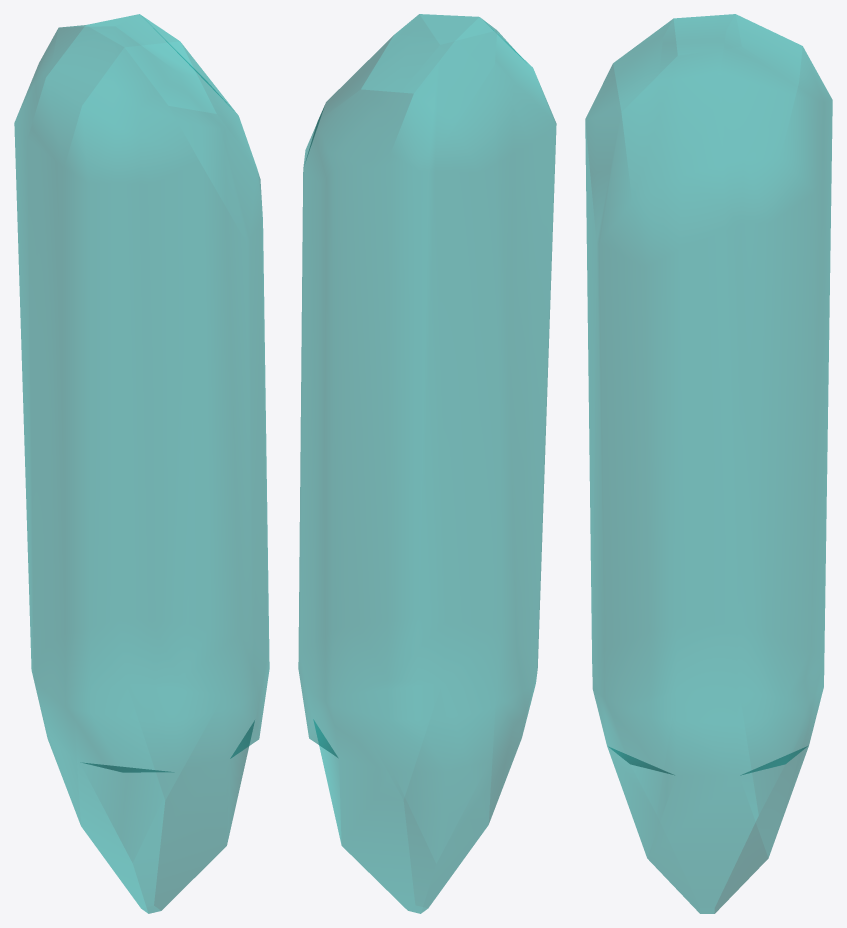
File: CrystalShard2.fbx
3 views of the same model, side by side, from view 1: azimuth 30°, elevation 25°; view 2: azimuth 150°, elevation 25°; view 3: azimuth 270°, elevation 25° (orthographic). The views are drawn at different scales.
Parts seen in each view (by area): view 1: CrystalShard2; view 2: CrystalShard2; view 3: CrystalShard2.
Boxes of the visible parts, box(x1,y1,x2,y2) form: CrystalShard2: box(14, 14, 269, 913); CrystalShard2: box(298, 14, 556, 913); CrystalShard2: box(585, 14, 832, 913).
Size of the model in its own units: 0.0975 by 0.3761 by 0.0967.
